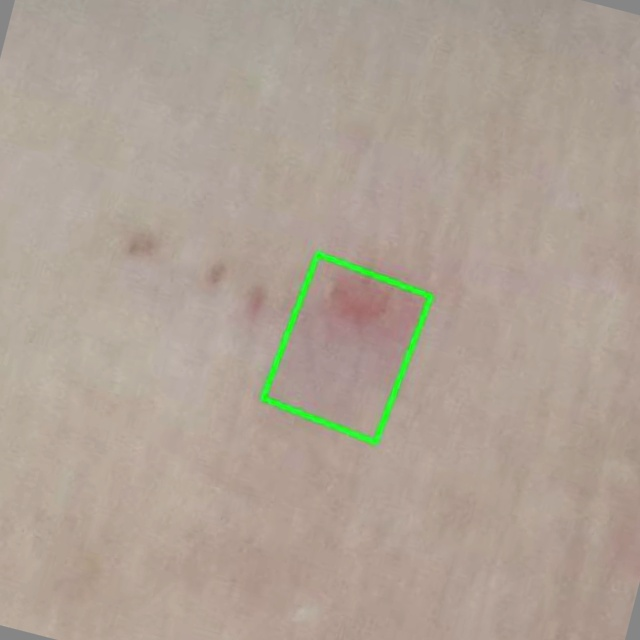Tinea Corporis: (262, 253, 430, 441)
